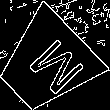M_SW: (12, 30, 80, 98)
